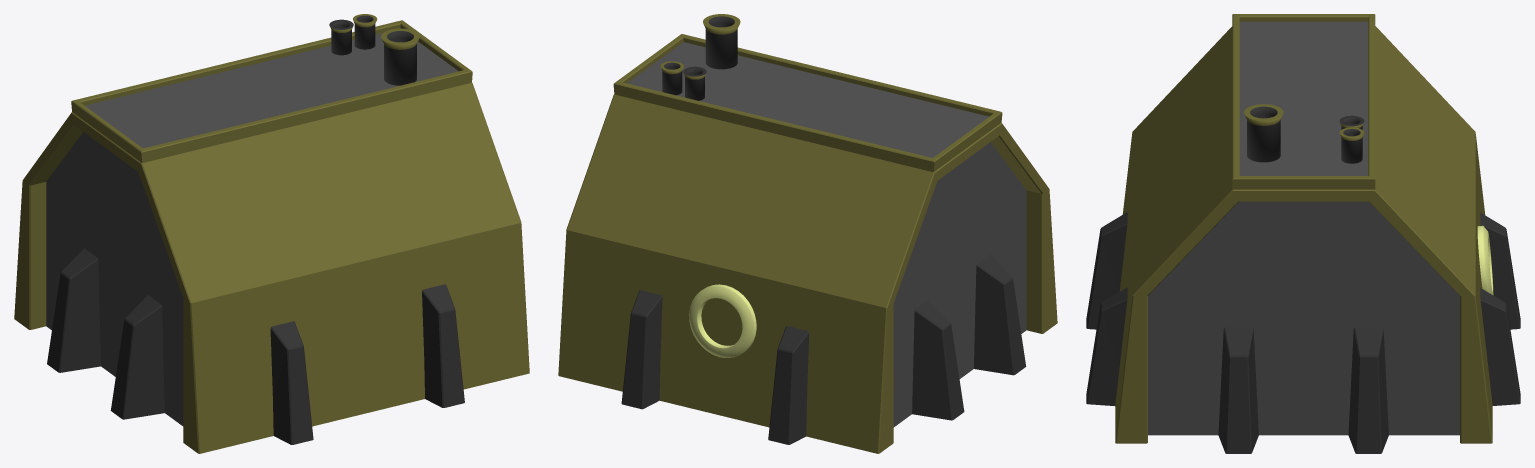
Rendered from Building_1.dae.
3 views of the same model, side by side, from view 1: azimuth 30°, elevation 25°; view 2: azimuth 150°, elevation 25°; view 3: azimuth 270°, elevation 25° (orthographic). The views are drawn at different scales.
Parts seen in each view (by area): view 1: Cube, Cube_005, Cube_002, Cube_003, Cube_004; view 2: Cube, Cube_005, Cube_001, Cube_002, Cube_003, Cube_004; view 3: Cube, Cube_005, Cube_002, Cube_001, Cube_003.
Part boxes in pixels (x1,y1,x2,y2): Cube: [14, 20, 529, 453]; Cube_005: [47, 248, 464, 444]; Cube_002: [381, 28, 419, 85]; Cube_003: [353, 14, 377, 49]; Cube_004: [329, 19, 353, 55]; Cube: [558, 34, 1057, 453]; Cube_005: [621, 254, 1026, 444]; Cube_001: [689, 284, 756, 357]; Cube_002: [703, 14, 740, 69]; Cube_003: [660, 61, 683, 95]; Cube_004: [683, 66, 706, 100]; Cube: [1115, 14, 1492, 443]; Cube_005: [1086, 212, 1520, 453]; Cube_002: [1244, 104, 1283, 162]; Cube_001: [1477, 225, 1493, 295]; Cube_003: [1339, 127, 1364, 163].
Bounding box in the file's own units: 6.77 × 6.68 × 5.14.
